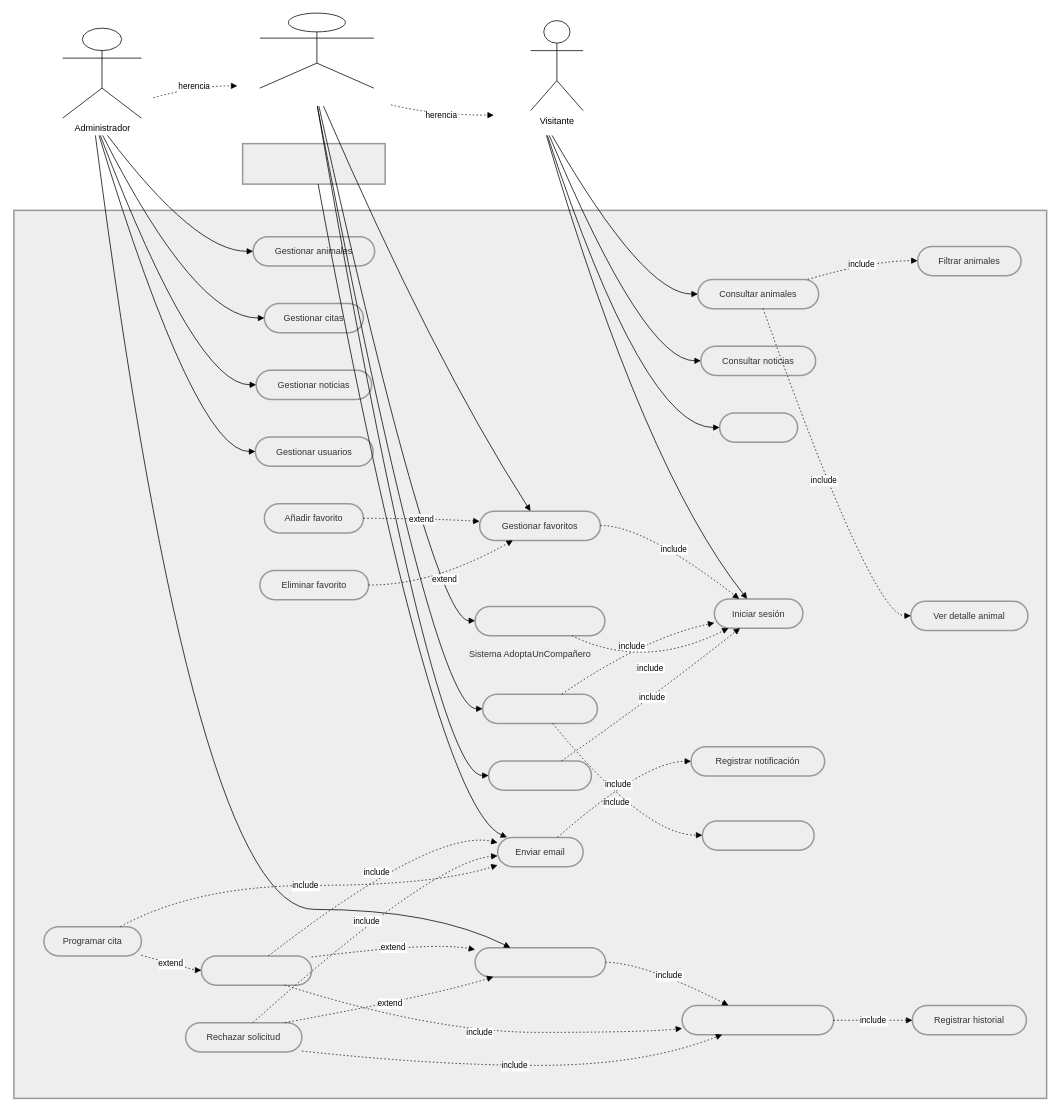
Some shapes in this 1060 by 1112 pixel diagram are drawn without their labels. The shapes that lost their labels are listed below. From the top down, each one's centre as x and y in pixels, then its label:
At point (316, 50): "Usuario/Adoptante".
At point (314, 163): "Servicio de correo".
At point (758, 427): "Registrarse".
At point (539, 620): "Consultar solicitudes".
At point (540, 708): "Solicitar adopción".
At point (540, 775): "Gestionar perfil".
At point (757, 835): "Rellenar solicitud".
At point (256, 970): "Aprobar solicitud".
At point (540, 961): "Gestionar solicitudes".
At point (757, 1019): "Cambiar estado solicitud".
